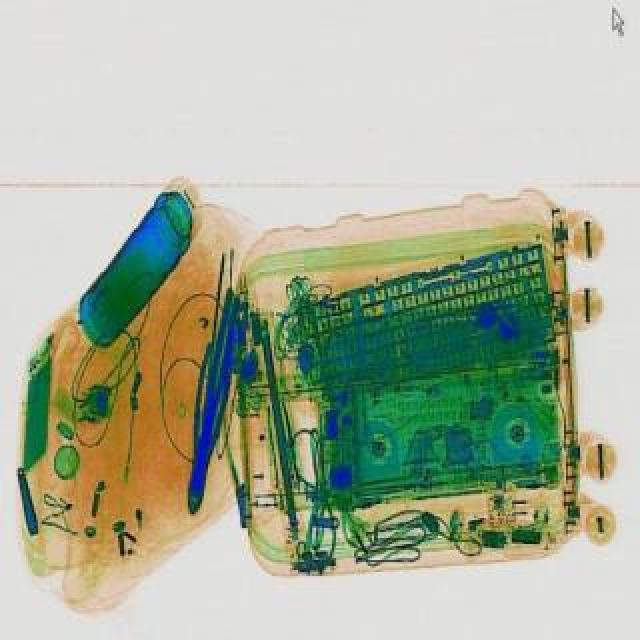wrench: (176, 290, 244, 514)
